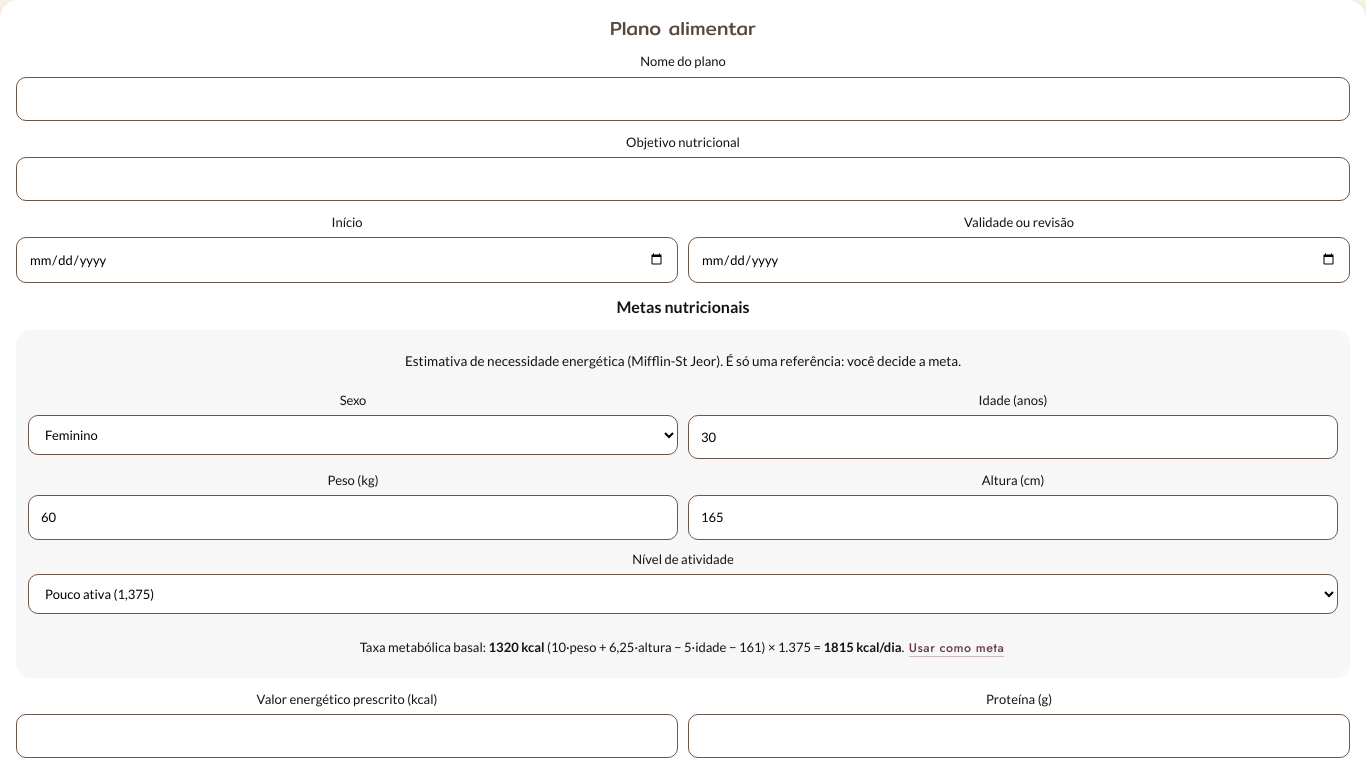
Test: PlanEditor — fluxo da nutricionista › mostra a fórmula da estimativa e só vira meta ao clicar
Expected: the text "Mifflin-St Jeor" is shown, [405,353,961,369]
Expected: the text "× 1.375" is shown, [360,630,1006,666]
Click the button "Usar como meta": [956, 648] box [907,630,1006,666]
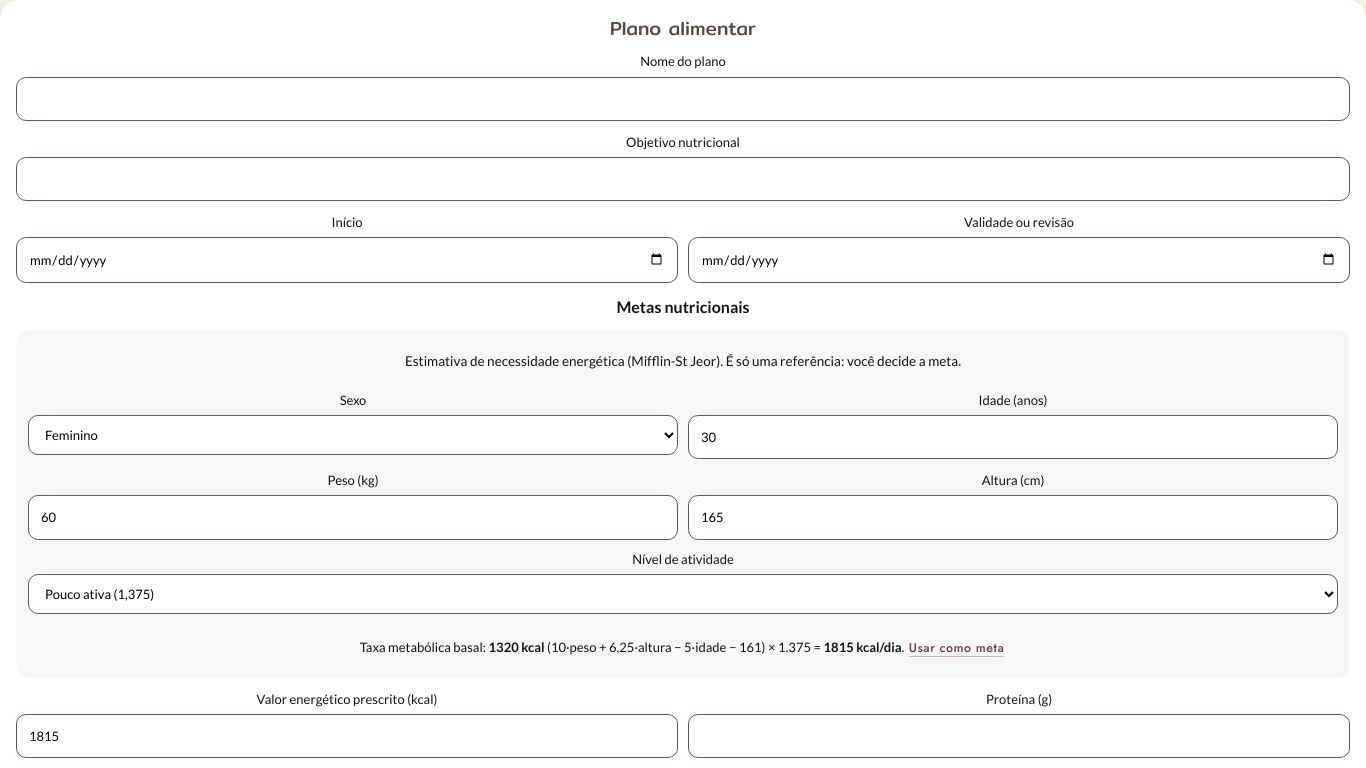
Expected: the field labelled "Valor energético prescrito (kcal)" holds "1815", [16,714,678,758]
